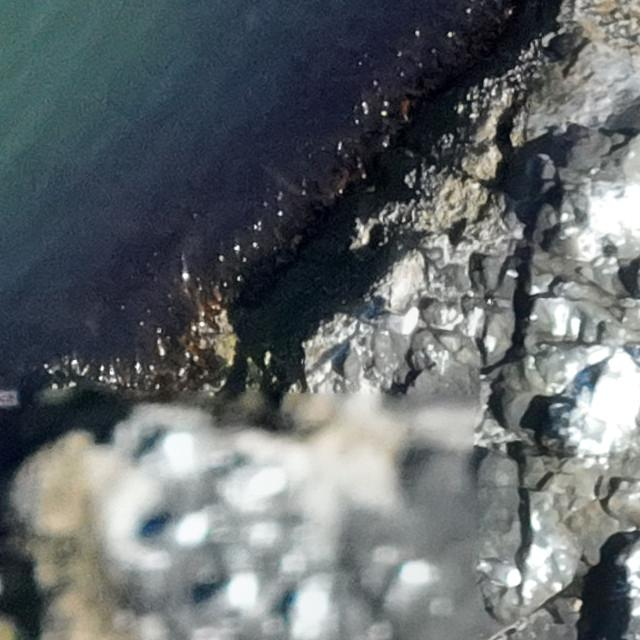umineko: (371, 310, 417, 332), (485, 563, 520, 584)
